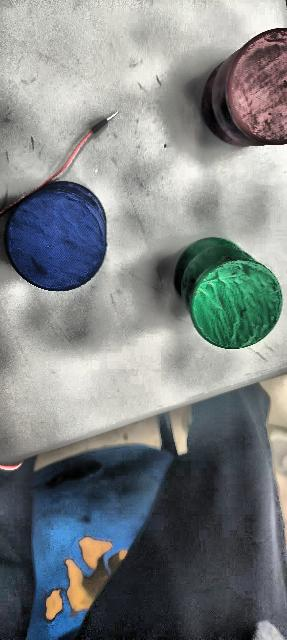blue: (5, 180, 107, 292)
green: (174, 236, 284, 350)
red: (198, 19, 287, 151)
